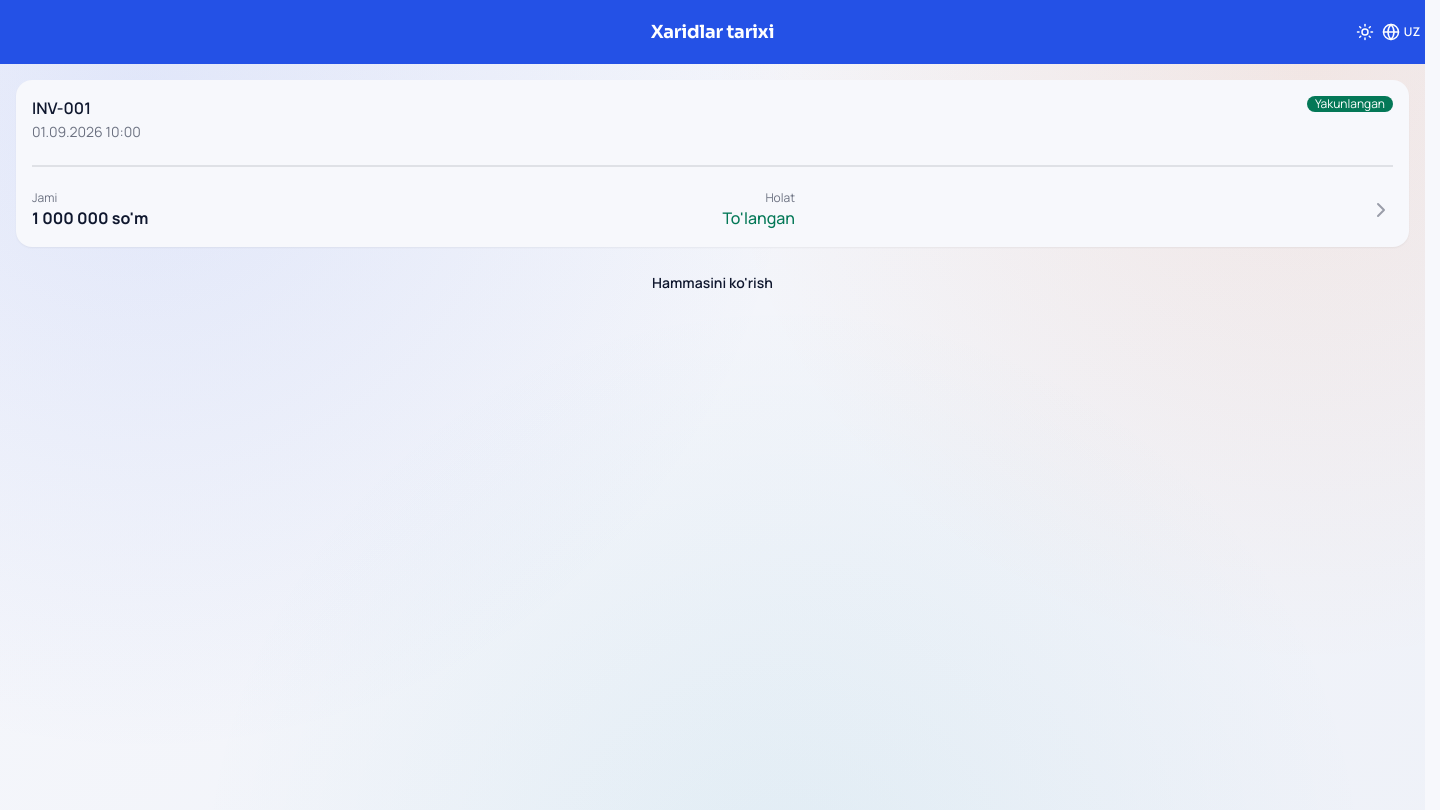
Test: PortalPurchasesPage › xaridlar ro'yxatini ko'rsatadi va keyingi sahifani so'raydi
Check: the text "INV-001" is shown, box [32,97,91,119]
What coordinates should you click on to do the following:
click the button "Hammasini ko'rish"
I would click on:
 (712, 283)
Its box is [16,259,1409,307].
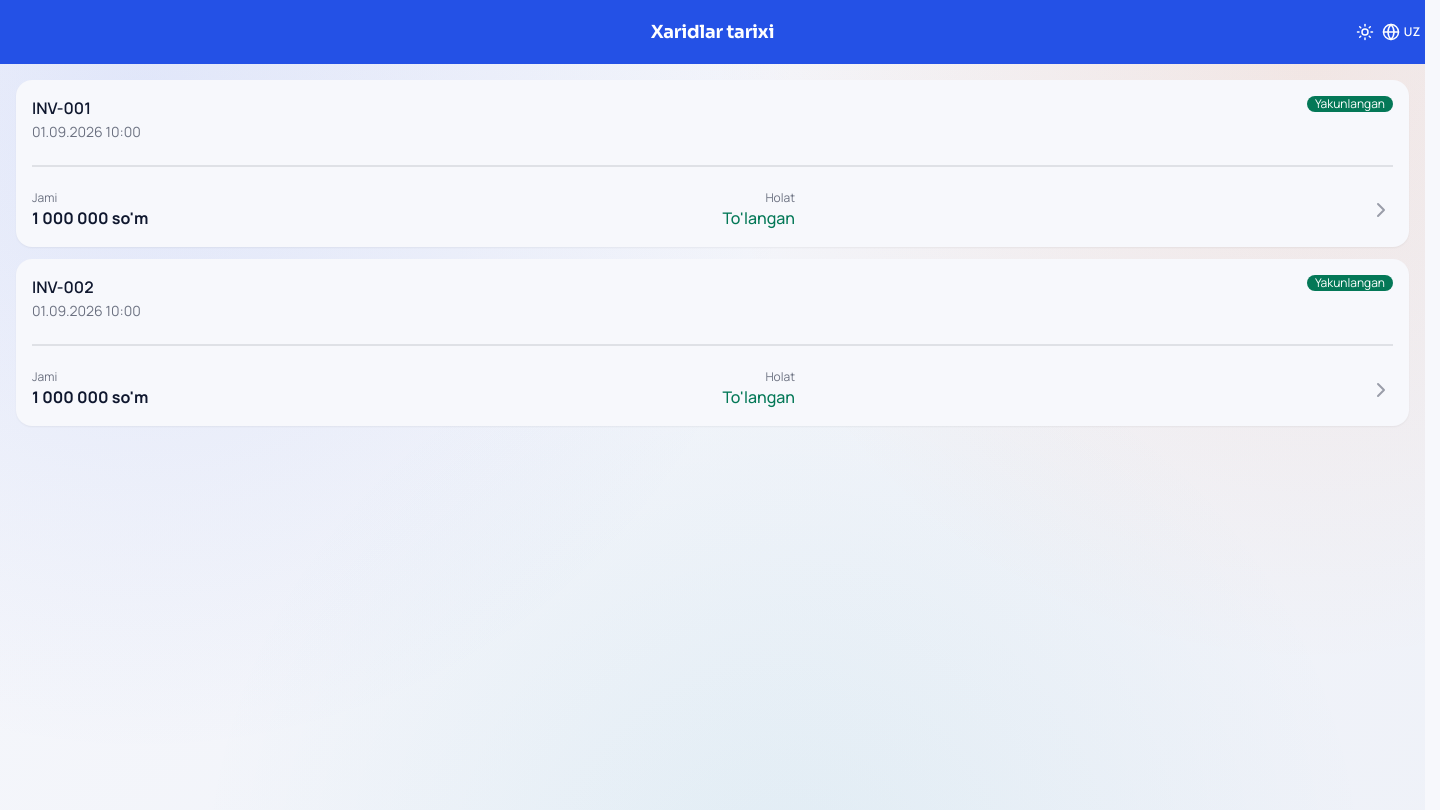
Check: the text "INV-002" is shown, box [32,276,94,298]
